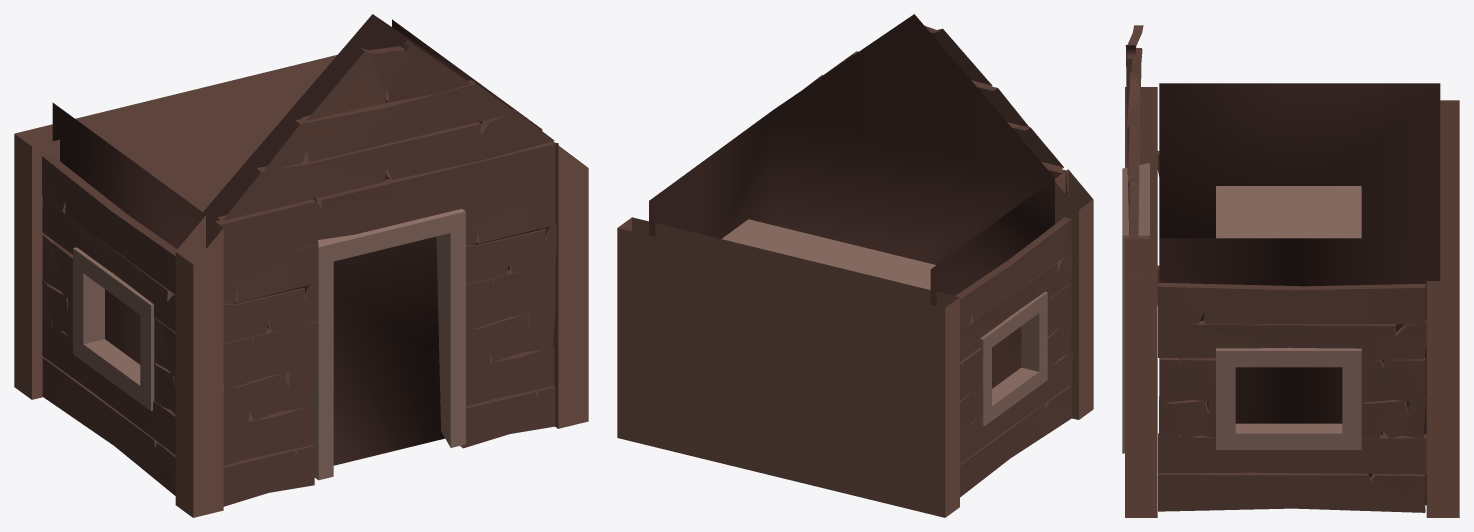
File: Building_Door_005.glb
3 renders of one model, left to right at view 1: azimuth 30°, elevation 25°; view 2: azimuth 150°, elevation 25°; view 3: azimuth 270°, elevation 25°, orthographic. The views are drawn at different scales.
Parts seen in each view (by area): view 1: Building_Door_005; view 2: Building_Door_005; view 3: Building_Door_005.
Part boxes in pixels (bbox=[...]): Building_Door_005: bbox=[14, 14, 588, 517]; Building_Door_005: bbox=[617, 14, 1093, 517]; Building_Door_005: bbox=[1122, 25, 1459, 517].
Bounding box in the file's own units: 7.12 × 7.61 × 5.62.
1 material, 1 textured.
